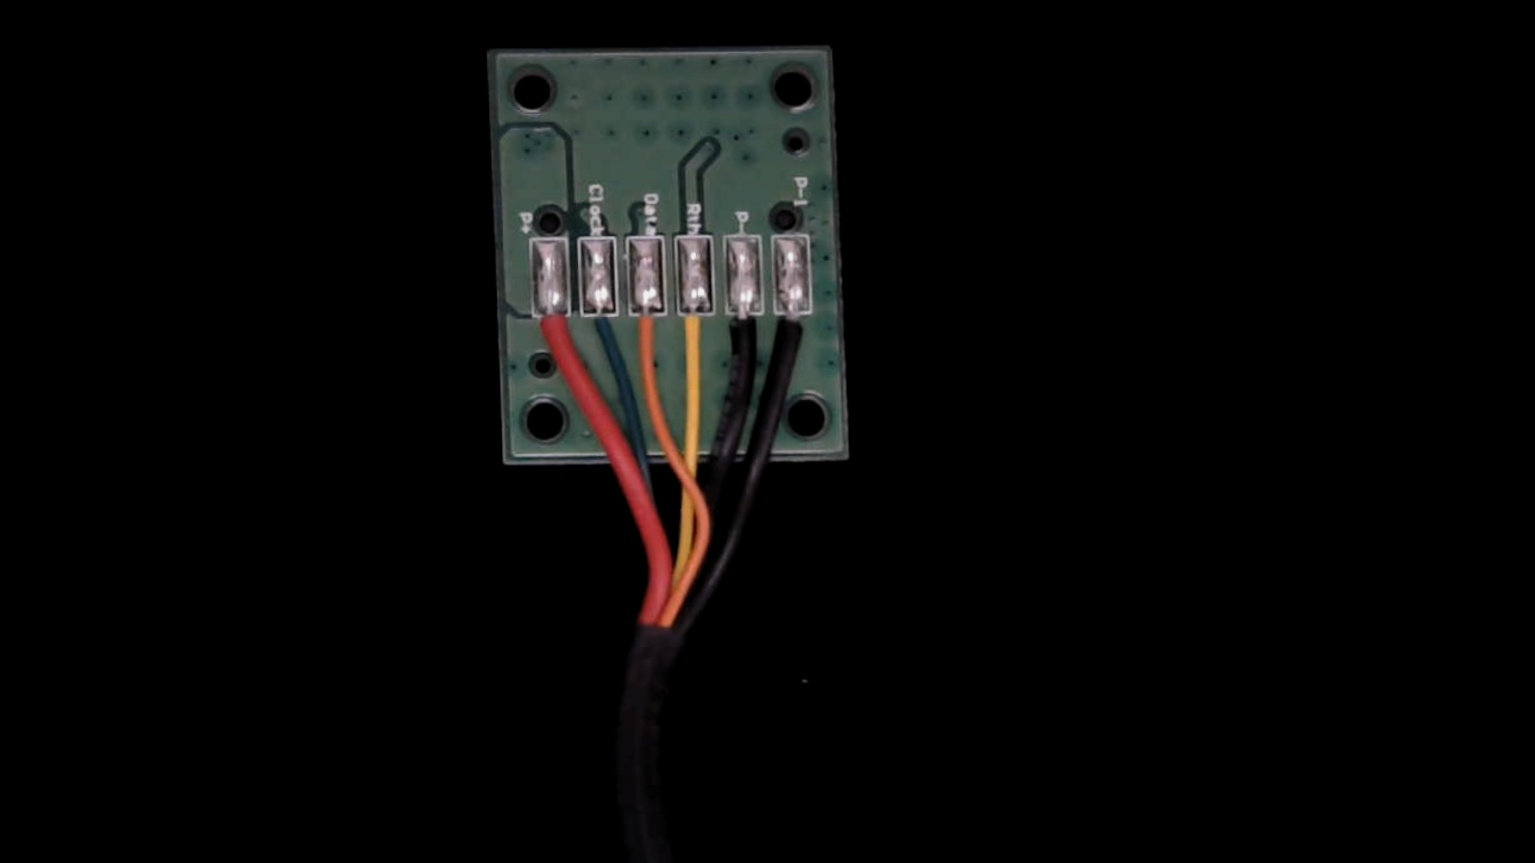Black: (725, 294, 763, 374)
Black1: (775, 295, 812, 375)
Green: (580, 289, 620, 371)
Orange: (629, 294, 667, 374)
Red: (532, 291, 570, 370)
Yellow: (679, 293, 713, 378)
